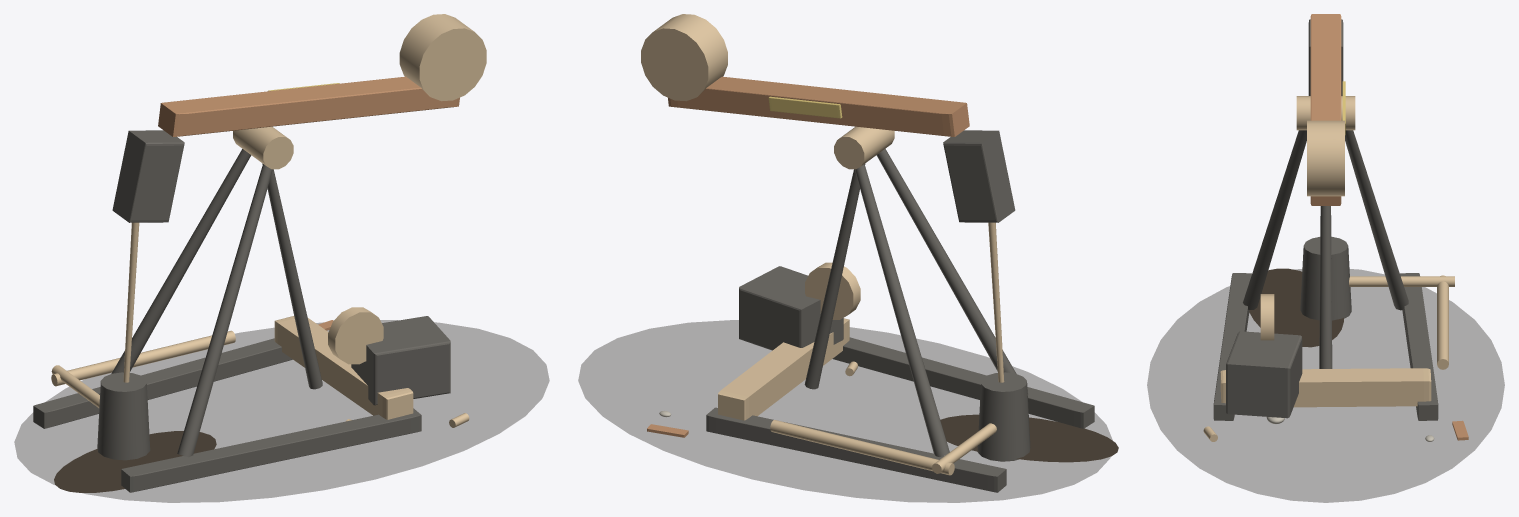
The model's file is oil_pump_jack.glb.
3 renders of one model, left to right at view 1: azimuth 30°, elevation 25°; view 2: azimuth 150°, elevation 25°; view 3: azimuth 270°, elevation 25°, orthographic. The views are drawn at different scales.
Parts seen in each view (by area): view 1: painted_contact_shadow, counterweighted_walking_beam, right_ground_skid, small_pump_motor_block, round_counterweight, horse_head_plate, left_ground_skid, right_a_frame_leg, wellhead_pipe, rear_cross_tie, fresh_crude_oil_pool, left_a_frame_leg (+6 smaller); view 2: painted_contact_shadow, counterweighted_walking_beam, small_pump_motor_block, round_counterweight, left_ground_skid, horse_head_plate, right_ground_skid, rear_cross_tie, left_a_frame_leg, fresh_crude_oil_pool, wellhead_pipe, right_a_frame_leg (+7 smaller); view 3: painted_contact_shadow, small_pump_motor_block, rear_cross_tie, counterweighted_walking_beam, wellhead_pipe, fresh_crude_oil_pool, round_counterweight, left_a_frame_leg, right_a_frame_leg, left_ground_skid, right_ground_skid, rear_a_frame_leg (+5 smaller).
Boxes of the visible parts, box(x1,y1,x2,y2) form: painted_contact_shadow: box(14, 320, 549, 502); counterweighted_walking_beam: box(158, 76, 459, 136); right_ground_skid: box(121, 408, 421, 492); small_pump_motor_block: box(351, 316, 450, 405); round_counterweight: box(399, 14, 486, 101); horse_head_plate: box(112, 130, 184, 222); left_ground_skid: box(33, 338, 292, 428); right_a_frame_leg: box(177, 164, 272, 457); wellhead_pipe: box(97, 372, 150, 460); rear_cross_tie: box(274, 316, 413, 419); fresh_crude_oil_pool: box(54, 431, 216, 492); left_a_frame_leg: box(99, 149, 251, 394); painted_contact_shadow: box(578, 320, 1112, 502); counterweighted_walking_beam: box(668, 76, 969, 136); small_pump_motor_block: box(739, 266, 843, 350); round_counterweight: box(641, 14, 727, 101); left_ground_skid: box(706, 407, 1006, 492); horse_head_plate: box(943, 130, 1015, 222); right_ground_skid: box(832, 337, 1094, 428); rear_cross_tie: box(718, 318, 849, 420); left_a_frame_leg: box(855, 164, 949, 456); fresh_crude_oil_pool: box(940, 414, 1118, 462); wellhead_pipe: box(977, 372, 1030, 461); right_a_frame_leg: box(876, 149, 1028, 395); painted_contact_shadow: box(1147, 269, 1504, 502); small_pump_motor_block: box(1226, 331, 1302, 418); rear_cross_tie: box(1220, 368, 1431, 407); counterweighted_walking_beam: box(1310, 14, 1341, 205); wellhead_pipe: box(1300, 236, 1351, 320); fresh_crude_oil_pool: box(1249, 268, 1343, 347); round_counterweight: box(1307, 120, 1344, 196); left_a_frame_leg: box(1345, 130, 1408, 310); right_a_frame_leg: box(1243, 130, 1306, 309); left_ground_skid: box(1400, 273, 1438, 420); right_ground_skid: box(1213, 273, 1251, 420); rear_a_frame_leg: box(1319, 206, 1332, 368).
Size of the model in its own units: 3.24 by 2.16 by 2.08.
